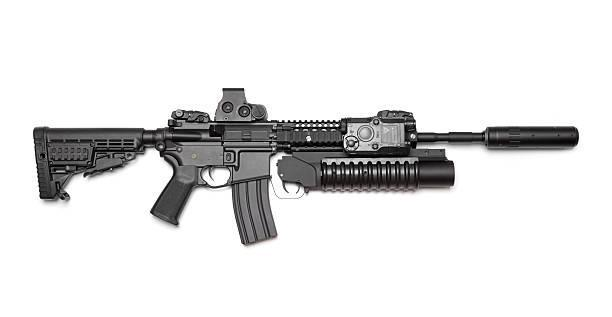larga: (32, 88, 580, 247)
